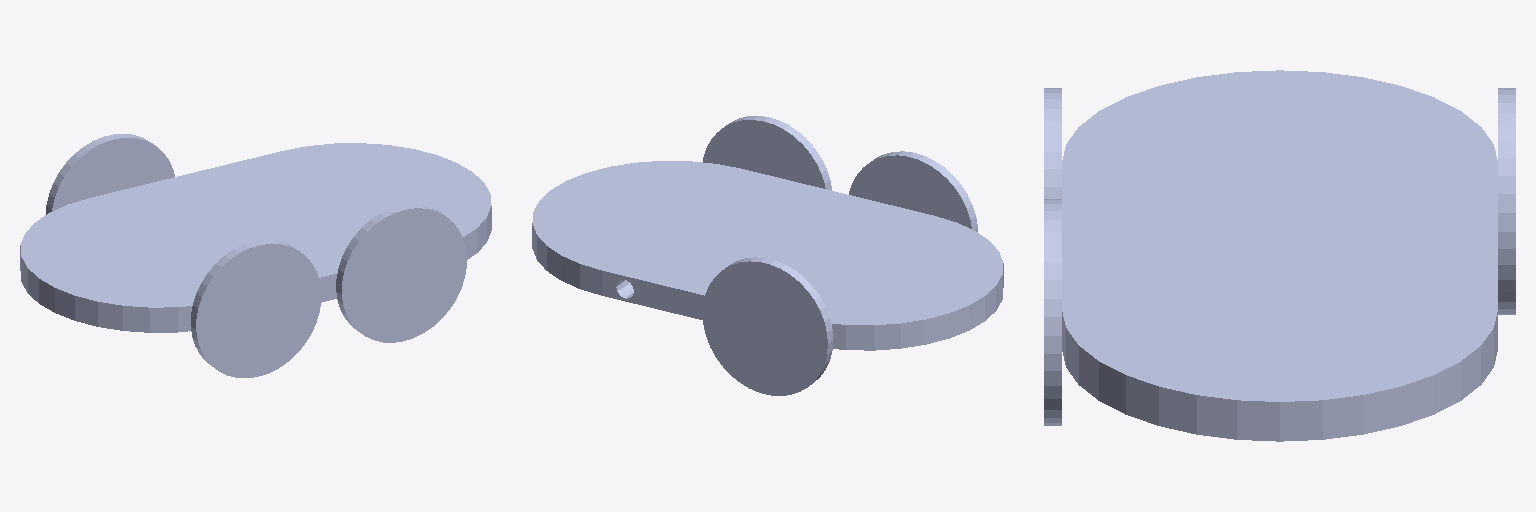
The robot description file, URDF, robot "4wheeledrobo":
<?xml version="1.0" encoding="utf-8"?>
<!-- This URDF was automatically created by SolidWorks to URDF Exporter! Originally created by [author] ([email redacted]) 
     Commit Version: 1.5.1-0-g916b5db  Build Version: 1.5.7152.31018
     For more information, please see http://wiki.ros.org/sw_urdf_exporter -->
<robot
  name="4wheeledrobo">
  <link
    name="base_link">
    <inertial>
      <origin
        xyz="0.379446627492409 -0.586814520881292 0.433316600137267"
        rpy="0 0 0" />
      <mass
        value="18.6458089186862" />
      <inertia
        ixx="0.341339886264213"
        ixy="-8.9395680407862E-18"
        ixz="8.7361257498331E-06"
        iyy="1.0733768203153"
        iyz="2.06916411894125E-17"
        izz="1.4066802531373" />
    </inertial>
    <visual>
      <origin
        xyz="0 0 0"
        rpy="0 0 0" />
      <geometry>
        <mesh
          filename="package://4wheeledrobo/meshes/base_link.STL" />
      </geometry>
      <material
        name="">
        <color
          rgba="0.792156862745098 0.819607843137255 0.933333333333333 1" />
      </material>
    </visual>
    <collision>
      <origin
        xyz="0 0 0"
        rpy="0 0 0" />
      <geometry>
        <mesh
          filename="package://4wheeledrobo/meshes/base_link.STL" />
      </geometry>
      <surface>
    <contact>
      <ode>
        <max_vel>0</max_vel>
      </ode>
    </contact>
  </surface>
    </collision>
  </link>
  <link
    name="linkleft1">
    <inertial>
      <origin
        xyz="-2.22044604925031E-16 0 -0.0580446927374302"
        rpy="0 0 0" />
      <mass
        value="1.12469016998515" />
      <inertia
        ixx="0.00461378889564732"
        ixy="0"
        ixz="3.15169641815633E-20"
        iyy="0.00461378889564732"
        iyz="-4.79315007032552E-20"
        izz="0.00898526914853218" />
    </inertial>
    <visual>
      <origin
        xyz="0 0 0"
        rpy="0 0 0" />
      <geometry>
        <mesh
          filename="package://4wheeledrobo/meshes/linkleft1.STL" />
      </geometry>
      <material
        name="">
        <color
          rgba="0.792156862745098 0.819607843137255 0.933333333333333 1" />
      </material>
    </visual>
    <collision>
      <origin
        xyz="0 0 0"
        rpy="0 0 0" />
      <geometry>
        <mesh
          filename="package://4wheeledrobo/meshes/linkleft1.STL" />
      </geometry>
      <surface>
    <contact>
      <ode>
        <max_vel>0</max_vel>
      </ode>
    </contact>
  </surface>
    </collision>
  </link>
  <joint
    name="leftpoint"
    type="continuous">
    <origin
      xyz="0.53039 -0.78681 0.43258"
      rpy="1.5708 0.39309 -3.1416" />
    <parent
      link="base_link" />
    <child
      link="linkleft1" />
    <axis
      xyz="0 0 1" />
    <limit
      effort="5"
      velocity="5" />
  </joint>
  <link
    name="linkright1">
    <inertial>
      <origin
        xyz="0 5.55111512312578E-17 0.0119553072625698"
        rpy="0 0 0" />
      <mass
        value="1.12469016998515" />
      <inertia
        ixx="0.00461378889564732"
        ixy="-4.41631305290208E-35"
        ixz="1.04486585211827E-19"
        iyy="0.00461378889564732"
        iyz="-1.72554969039549E-37"
        izz="0.00898526914853218" />
    </inertial>
    <visual>
      <origin
        xyz="0 0 0"
        rpy="0 0 0" />
      <geometry>
        <mesh
          filename="package://4wheeledrobo/meshes/linkright1.STL" />
      </geometry>
      <material
        name="">
        <color
          rgba="0.792156862745098 0.819607843137255 0.933333333333333 1" />
      </material>
    </visual>
    <collision>
      <origin
        xyz="0 0 0"
        rpy="0 0 0" />
      <geometry>
        <mesh
          filename="package://4wheeledrobo/meshes/linkright1.STL" />
      </geometry>
      <surface>
    <contact>
      <ode>
        <max_vel>0</max_vel>
      </ode>
    </contact>
  </surface>
    </collision>
  </link>
  <joint
    name="rightpoint"
    type="continuous">
    <origin
      xyz="0.53039 -0.31681 0.43258"
      rpy="1.5708 0 0" />
    <parent
      link="base_link" />
    <child
      link="linkright1" />
    <axis
      xyz="0 0 -1" />
    <limit
      effort="5"
      velocity="5" />
  </joint>
  <link
    name="linkleft2">
    <inertial>
      <origin
        xyz="0 5.55111512312578E-17 -0.0580446927374302"
        rpy="0 0 0" />
      <mass
        value="1.12469016998515" />
      <inertia
        ixx="0.00461378889564732"
        ixy="-1.0842021724855E-19"
        ixz="2.51374988049489E-20"
        iyy="0.00461378889564732"
        iyz="-4.85308082546461E-20"
        izz="0.00898526914853218" />
    </inertial>
    <visual>
      <origin
        xyz="0 0 0"
        rpy="0 0 0" />
      <geometry>
        <mesh
          filename="package://4wheeledrobo/meshes/linkleft2.STL" />
      </geometry>
      <material
        name="">
        <color
          rgba="0.792156862745098 0.819607843137255 0.933333333333333 1" />
      </material>
    </visual>
    <collision>
      <origin
        xyz="0 0 0"
        rpy="0 0 0" />
      <geometry>
        <mesh
          filename="package://4wheeledrobo/meshes/linkleft2.STL" />
      </geometry>
      <surface>
    <contact>
      <ode>
        <max_vel>0</max_vel>
      </ode>
    </contact>
  </surface>
    </collision>
  </link>
  <joint
    name="leftpoint2"
    type="continuous">
    <origin
      xyz="0.22881 -0.78681 0.43258"
      rpy="1.5708 0.39309 -3.1416" />
    <parent
      link="base_link" />
    <child
      link="linkleft2" />
    <axis
      xyz="0 0 -1" />
    <limit
      effort="5"
      velocity="5" />
  </joint>
  <link
    name="linkright2">
    <inertial>
      <origin
        xyz="-2.77555756156289E-17 5.55111512312578E-17 0.0119553072625698"
        rpy="0 0 0" />
      <mass
        value="1.12469016998515" />
      <inertia
        ixx="0.00461378889564732"
        ixy="-4.41631305290208E-35"
        ixz="1.04486585211827E-19"
        iyy="0.00461378889564732"
        iyz="-1.72554969039549E-37"
        izz="0.00898526914853218" />
    </inertial>
    <visual>
      <origin
        xyz="0 0 0"
        rpy="0 0 0" />
      <geometry>
        <mesh
          filename="package://4wheeledrobo/meshes/linkright2.STL" />
      </geometry>
      <material
        name="">
        <color
          rgba="0.792156862745098 0.819607843137255 0.933333333333333 1" />
      </material>
    </visual>
    <collision>
      <origin
        xyz="0 0 0"
        rpy="0 0 0" />
      <geometry>
        <mesh
          filename="package://4wheeledrobo/meshes/linkright2.STL" />
      </geometry>
      <surface>
    <contact>
      <ode>
        <max_vel>0</max_vel>
      </ode>
    </contact>
  </surface>
    </collision>
  </link>
  <joint
    name="rightpoint2"
    type="continuous">
    <origin
      xyz="0.22881 -0.31681 0.43258"
      rpy="1.5708 0 0" />
    <parent
      link="base_link" />
    <child
      link="linkright2" />
    <axis
      xyz="0 0 1" />
    <limit
      effort="5"
      velocity="5" />
  </joint>
  
  <plugin name="skid_steer_drive_controller" filename="libgazebo_ros_skid_steer_drive.so">
    <updateRate>100.0</updateRate>
    <robotNamespace>4wheeledrobo</robotNamespace>
    <leftFrontJoint>leftpoint</leftFrontJoint>
    <rightFrontJoint>rightpoint</rightFrontJoint>
    <leftRearJoint>leftpoint2</leftRearJoint>
    <rightRearJoint>rightpoint2</rightRearJoint>
    <wheelSeparation>0.5</wheelSeparation>
    <wheelDiameter>0.1219</wheelDiameter>
    <robotBaseFrame>base_link</robotBaseFrame>
    <torque>20</torque>
    <topicName>cmd_vel</topicName>
    <broadcastTF>false</broadcastTF>
  </plugin> 
  
</robot>

--- Render facts (derived) ---
Views: 3 orthographic renders of the robot side by side, from view 1: azimuth 30°, elevation 25°; view 2: azimuth 150°, elevation 25°; view 3: azimuth 270°, elevation 25°.
Robot: 4wheeledrobo — 5 links, 4 joints (4 continuous); root link base_link; default pose: all joints at 0.
Visible links, largest first — view 1: base_link, linkleft1, linkleft2, linkright2; view 2: base_link, linkright2, linkleft2, linkleft1; view 3: base_link, linkleft1, linkright2, linkleft2.
Link boxes in pixels (x1=…): base_link: x1=20, y1=143, x2=491, y2=332; linkleft1: x1=336, y1=204, x2=466, y2=342; linkleft2: x1=191, y1=240, x2=320, y2=377; linkright2: x1=46, y1=134, x2=174, y2=214; base_link: x1=532, y1=161, x2=1003, y2=350; linkright2: x1=702, y1=257, x2=832, y2=395; linkleft2: x1=849, y1=151, x2=977, y2=231; linkleft1: x1=703, y1=116, x2=831, y2=190; base_link: x1=1062, y1=70, x2=1497, y2=441; linkleft1: x1=1044, y1=199, x2=1061, y2=425; linkright2: x1=1498, y1=88, x2=1515, y2=314; linkleft2: x1=1044, y1=88, x2=1061, y2=198.
Size in the robot's own frame: 0.9 by 0.54 by 0.2599 metres.
Meshes: 5 distinct files referenced, 4 mesh visuals loaded (4 binary STL); not drawn: 1 (reference not matched to a file when rendering).
